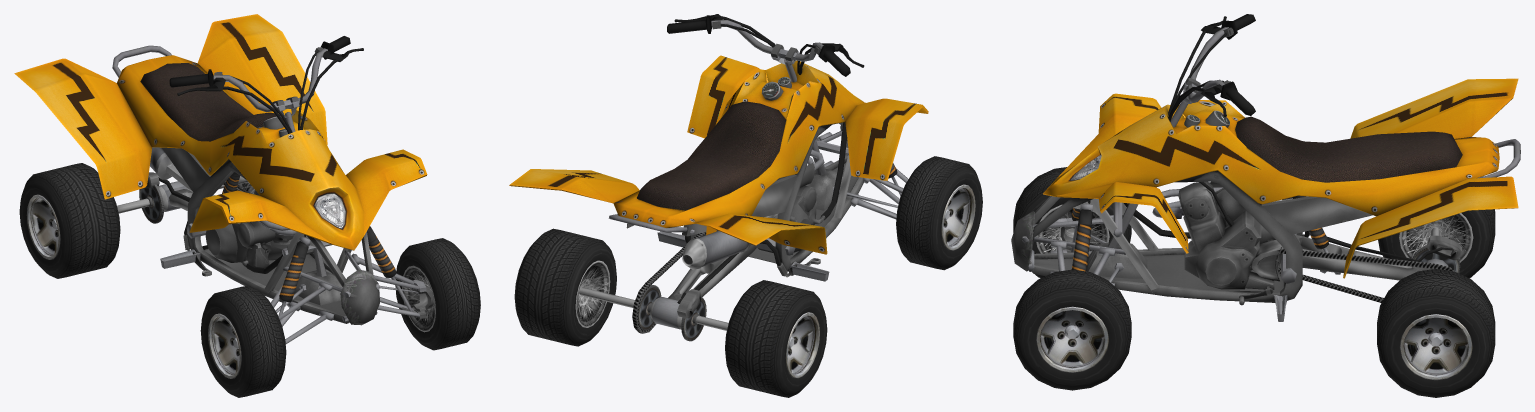
Rendered from bike_4.fbx.
3 renders of one model, left to right at view 1: azimuth 30°, elevation 25°; view 2: azimuth 150°, elevation 25°; view 3: azimuth 270°, elevation 25°, orthographic. The views are drawn at different scales.
Visible parts, largest first — view 1: boby, t_r1, t_r, t_l, handle; view 2: boby, t_r1, t_l1, t_r, handle; view 3: boby, t_l1, t_l, t_r1, handle, t_r.
Boxes of the visible parts, box(x1,y1,x2,y2) form: boby: box(14, 14, 433, 344); t_r1: box(19, 163, 120, 278); t_r: box(200, 285, 286, 397); t_l: box(395, 238, 480, 350); handle: box(169, 36, 363, 133); boby: box(509, 55, 928, 341); t_r1: box(725, 280, 827, 397); t_l1: box(514, 228, 616, 346); t_r: box(896, 156, 982, 270); handle: box(667, 14, 864, 82); boby: box(1011, 78, 1520, 321); t_l1: box(1377, 269, 1495, 397); t_l: box(1013, 269, 1131, 390); t_r1: box(1378, 209, 1495, 278); handle: box(1168, 14, 1255, 127); t_r: box(1013, 167, 1131, 278).
Bounding box in the file's own units: 153 × 143 × 235.
